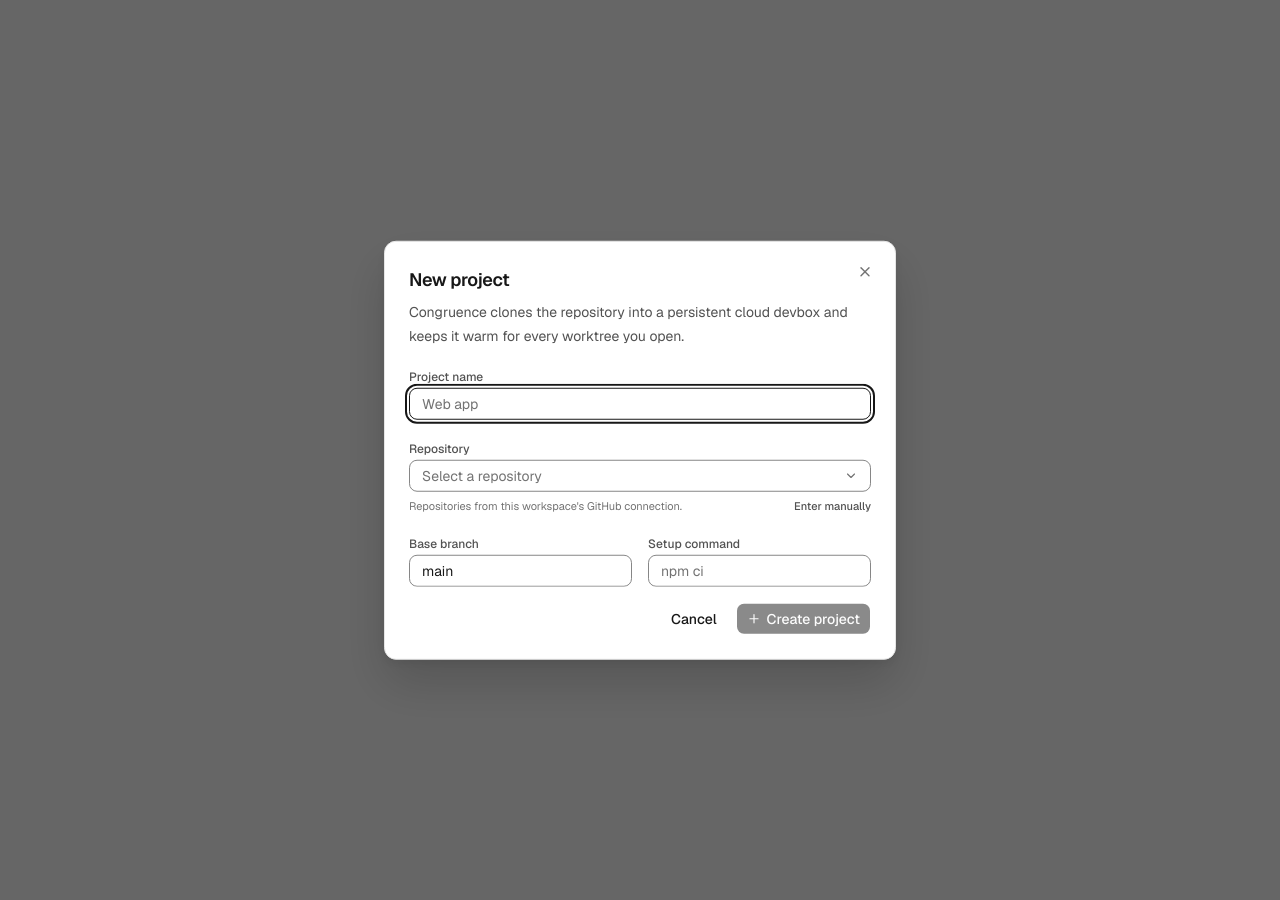
it: New project dialog › falls back to typing an owner/repo
Click the button "Enter manually": [833, 506] box [794,498,871,514]
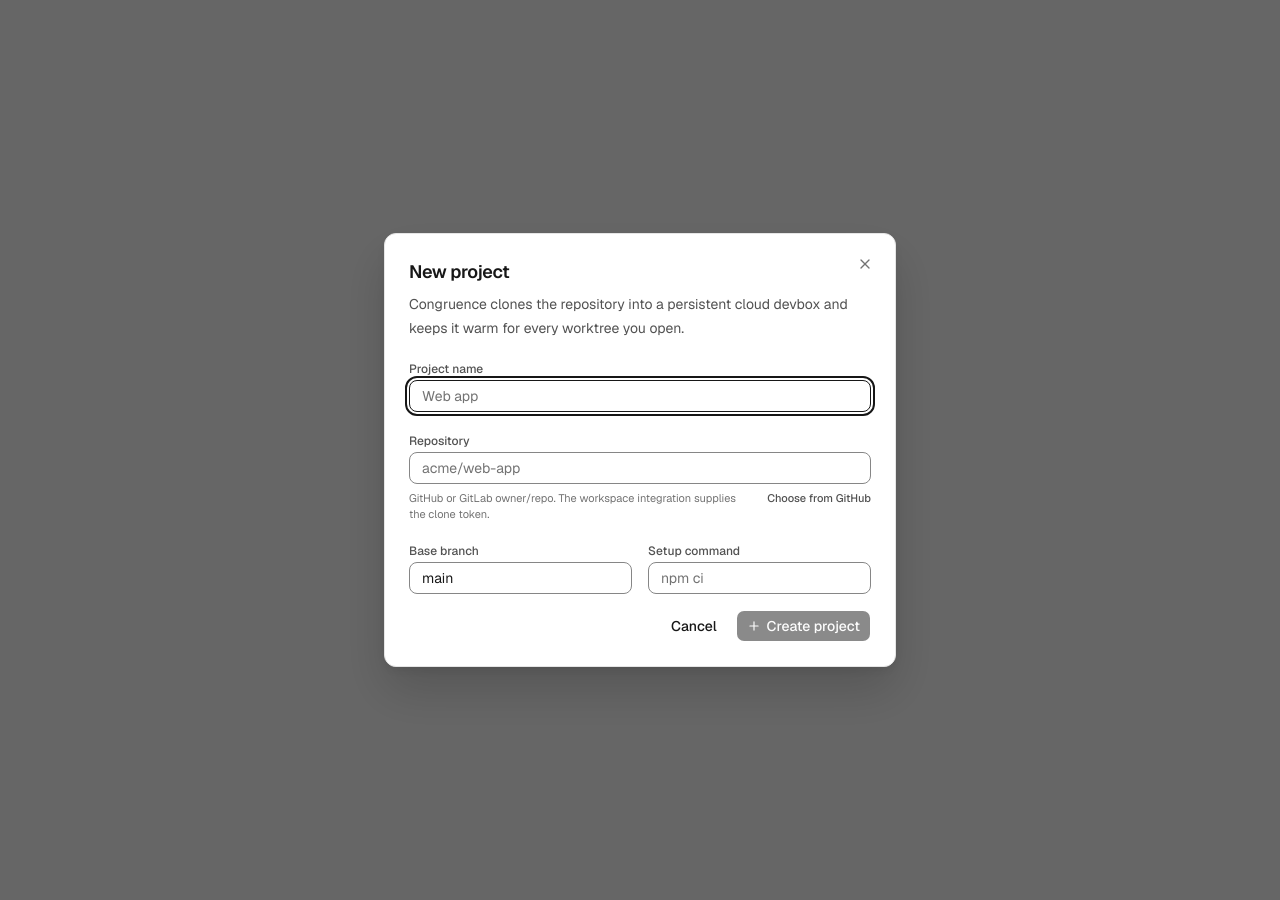
In the field labelled "Repository": [640, 468] box [409,452,871,484], type "acme/legacy"
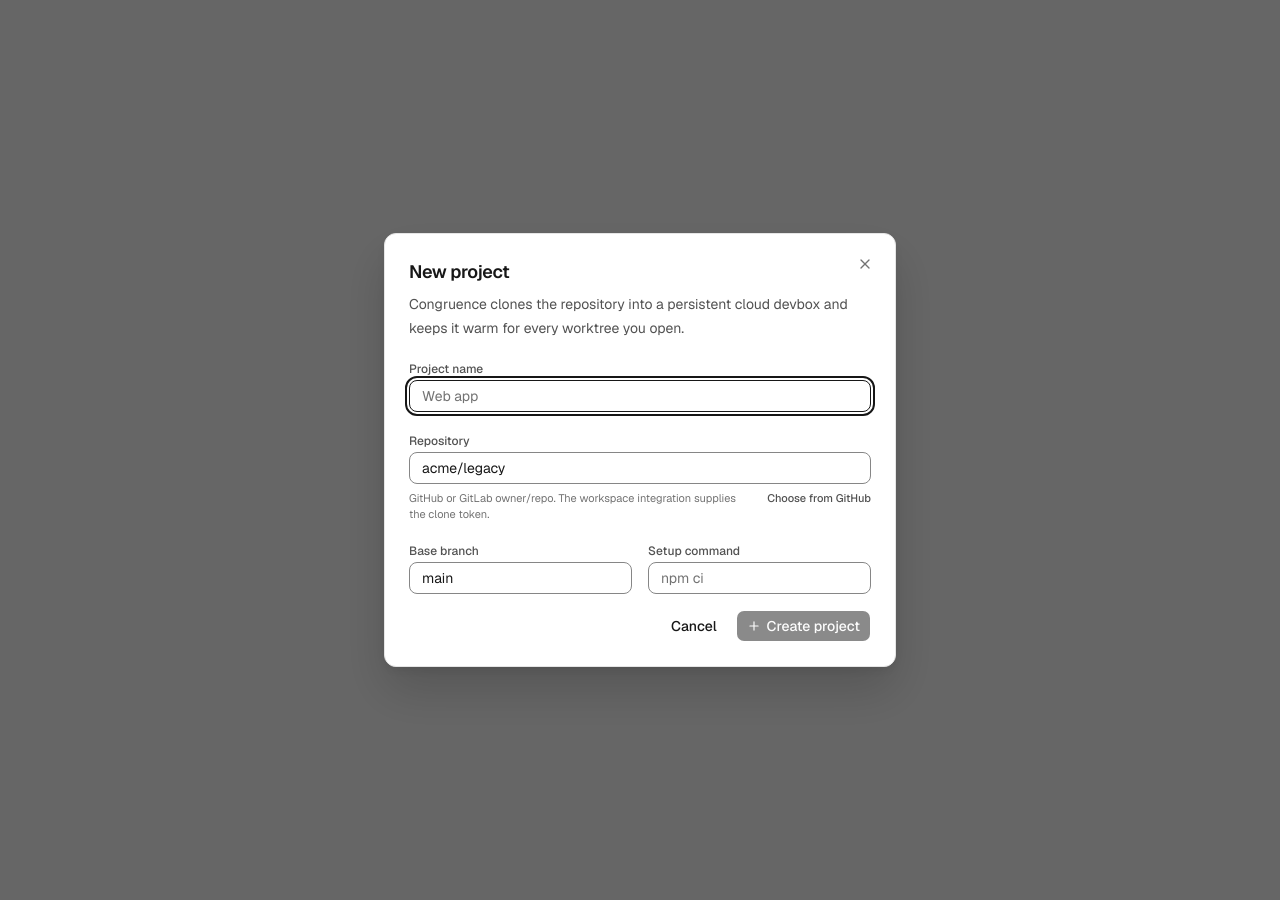
Click the button "Choose from GitHub": [819, 498] box [767,490,871,506]
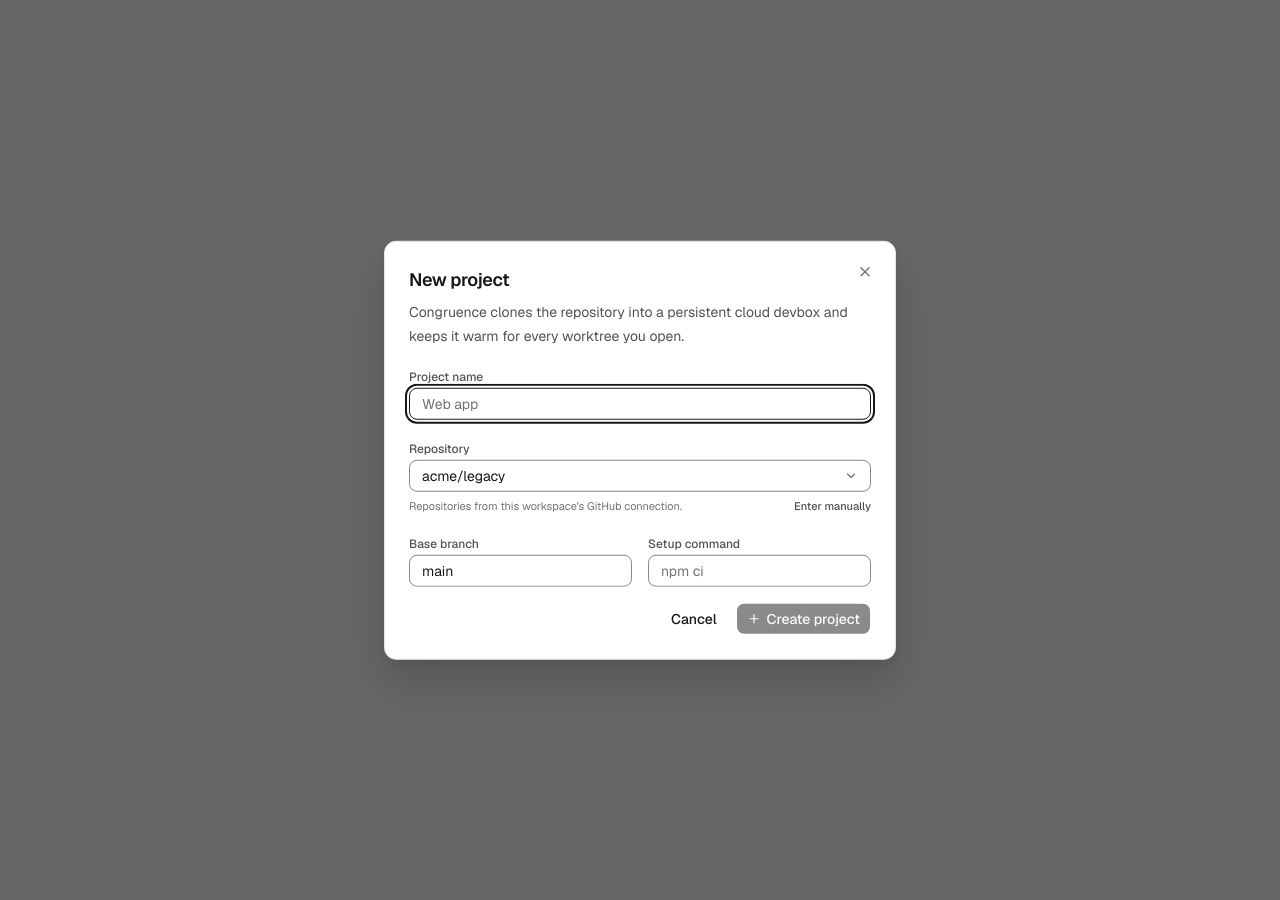
Check: the button with aria-label "Repository: acme/legacy" is shown, box [409,460,871,492]
